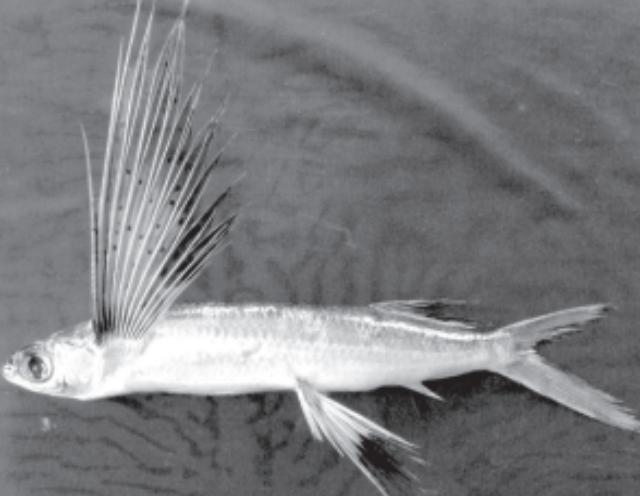Mulut: (0, 332, 40, 404)
Sirip Anal: (380, 368, 450, 410)
Sirip Dada: (64, 2, 240, 358)
Sirip Ekor: (492, 284, 640, 454)
Sirip Perut: (283, 368, 435, 496)
Sirip Punggung: (356, 272, 496, 338)
